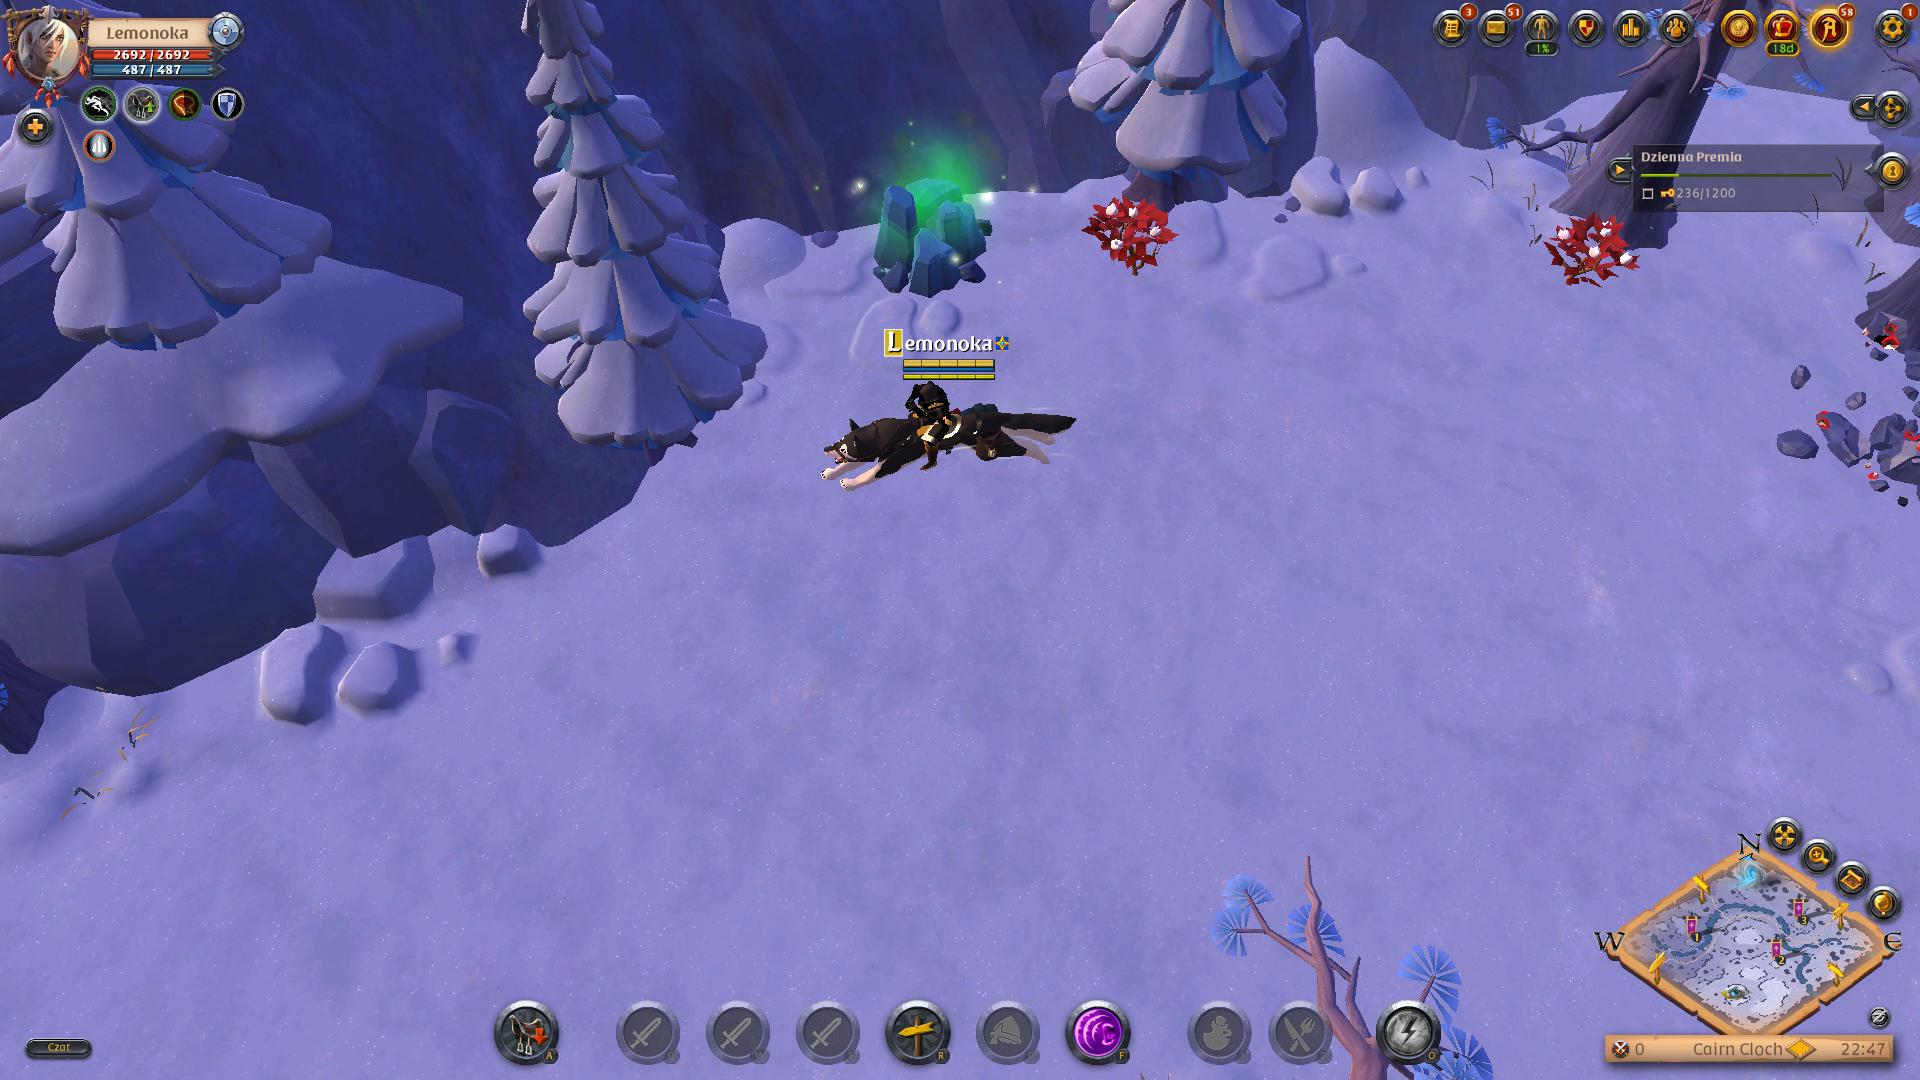fiber tier 5: (1545, 210, 1640, 291), (1087, 194, 1175, 273)
rock tier 4: (870, 178, 998, 302)
